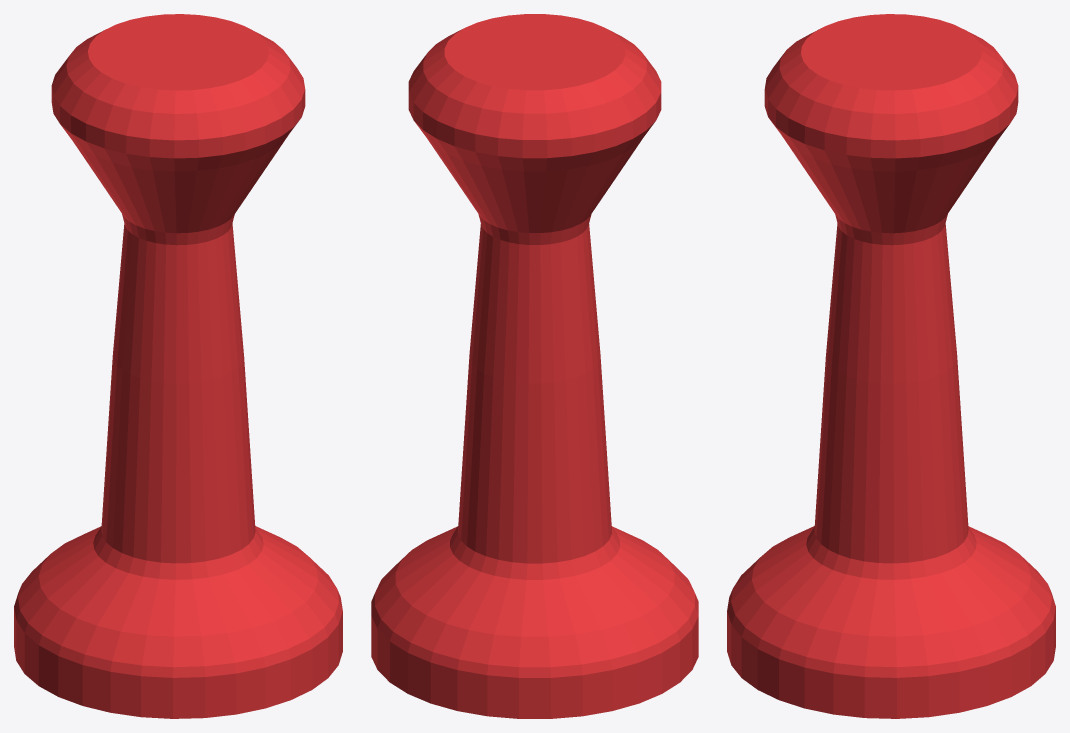
Rendered from ficha.glb.
The picture shows the model from 3 angles, left to right: view 1: azimuth 30°, elevation 25°; view 2: azimuth 150°, elevation 25°; view 3: azimuth 270°, elevation 25°; orthographic projection.
Parts seen in each view (by area): view 1: Fichas; view 2: Fichas; view 3: Fichas.
Boxes of the visible parts, left/top/right/bottom form: Fichas: left=14, top=14, right=342, bottom=718; Fichas: left=371, top=14, right=698, bottom=718; Fichas: left=727, top=14, right=1055, bottom=718.
Size of the model in its own units: 0.0234 by 0.0469 by 0.0234.
